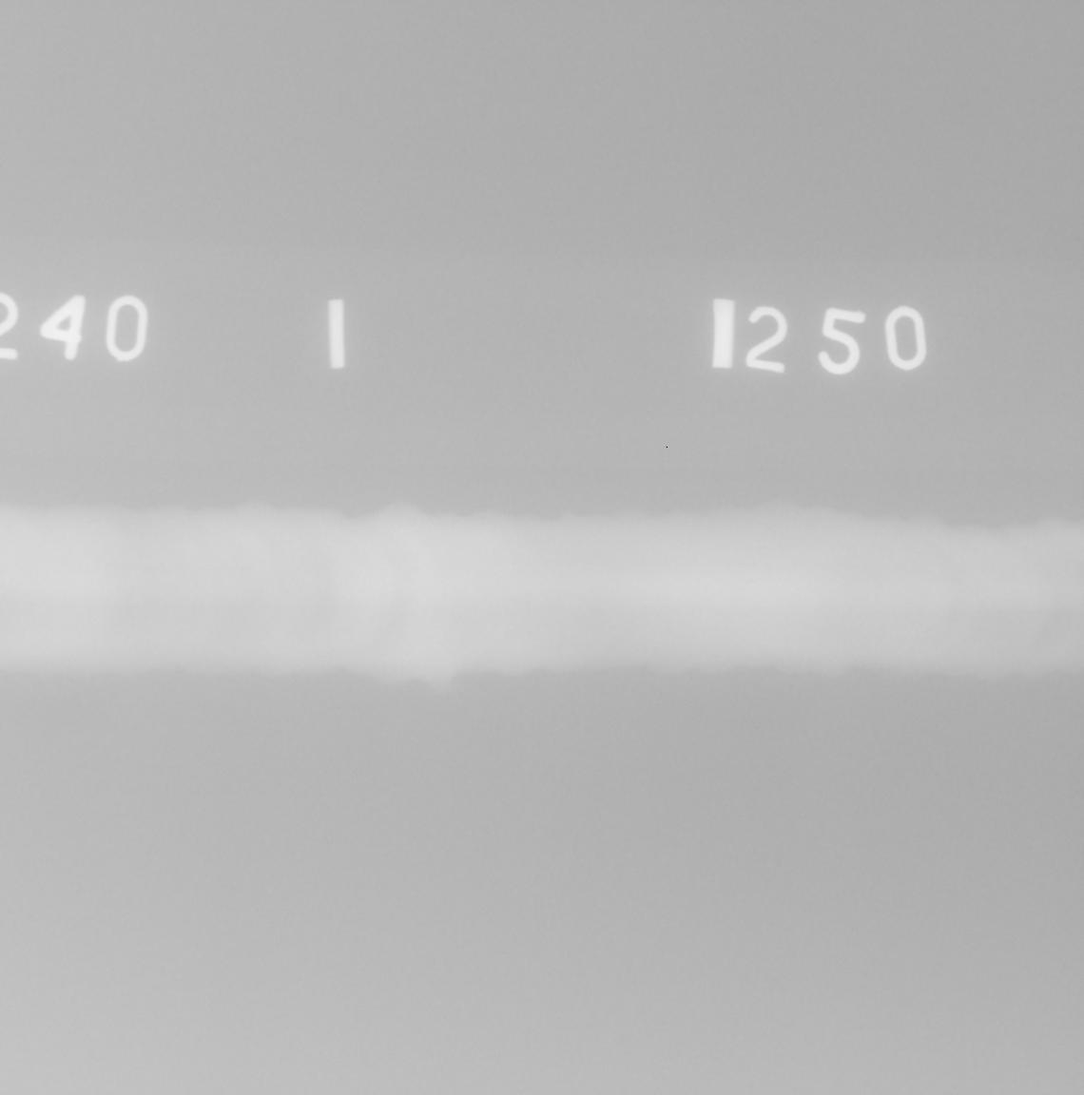Pore/Porosity: (511, 597, 516, 602), (31, 603, 35, 607), (526, 603, 530, 607)
